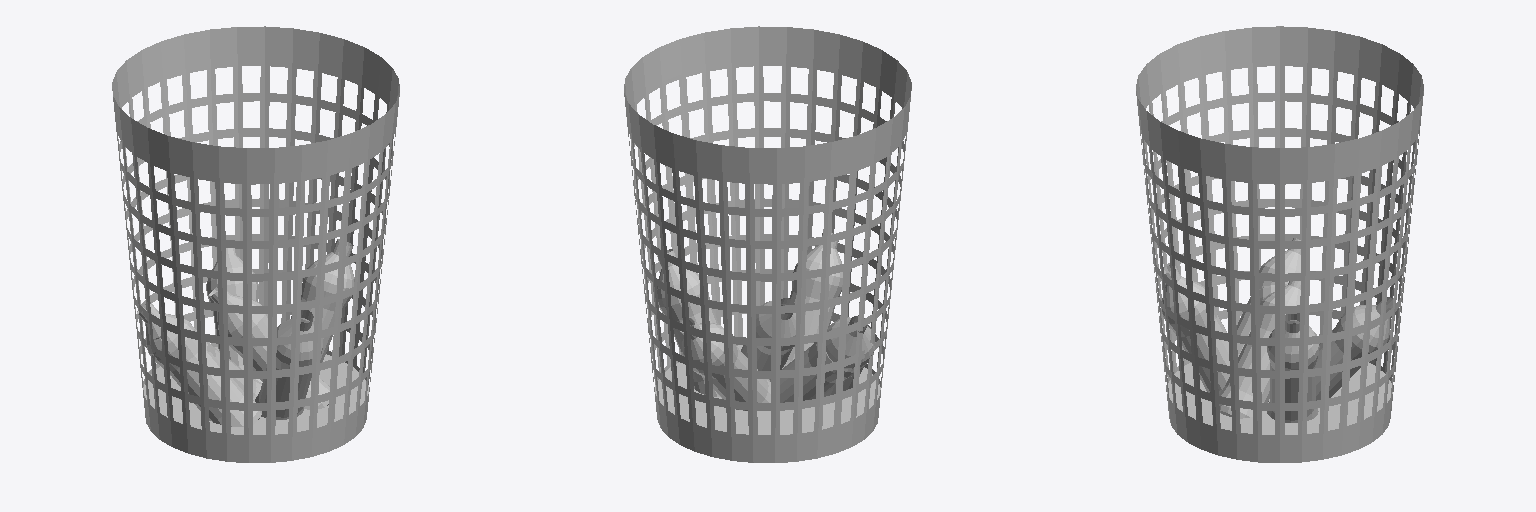
Rendered from DustbinWithCan_000047.obj.
3 renders of one model, left to right at view 1: azimuth 30°, elevation 25°; view 2: azimuth 150°, elevation 25°; view 3: azimuth 270°, elevation 25°, orthographic.
Visible parts, largest first — view 1: Cylinder, Plane.005, Plane.001, Plane.004, Plane.003, Plane.002; view 2: Cylinder, Plane.002, Plane.001, Plane.003, Plane.004, Plane.006, Plane.005; view 3: Cylinder, Plane.001, Plane.004, Plane.003, Plane.002, Plane.005.
Boxes of the visible parts, x1=… form: Cylinder: x1=112, y1=26, x2=399, y2=462; Plane.005: x1=137, y1=302, x2=261, y2=426; Plane.001: x1=255, y1=310, x2=322, y2=419; Plane.004: x1=209, y1=287, x2=329, y2=409; Plane.003: x1=291, y1=239, x2=354, y2=362; Plane.002: x1=206, y1=248, x2=262, y2=382; Cylinder: x1=624, y1=26, x2=911, y2=462; Plane.002: x1=680, y1=318, x2=770, y2=410; Plane.001: x1=782, y1=233, x2=842, y2=368; Plane.003: x1=657, y1=249, x2=719, y2=396; Plane.004: x1=741, y1=298, x2=795, y2=370; Plane.006: x1=769, y1=325, x2=871, y2=402; Plane.005: x1=824, y1=316, x2=875, y2=396; Cylinder: x1=1136, y1=26, x2=1423, y2=462; Plane.001: x1=1162, y1=265, x2=1238, y2=393; Plane.004: x1=1219, y1=281, x2=1300, y2=418; Plane.003: x1=1267, y1=313, x2=1319, y2=422; Plane.002: x1=1316, y1=297, x2=1397, y2=400; Plane.005: x1=1237, y1=238, x2=1300, y2=354.
Size of the model in its own units: 2.6 by 3.35 by 2.6.